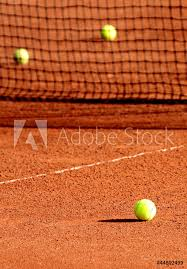tennis_ball: (135, 198, 155, 221), (100, 24, 117, 42), (13, 47, 29, 65)
